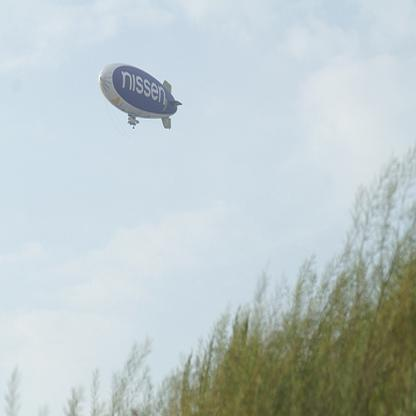Airship: (97, 61, 186, 139)
